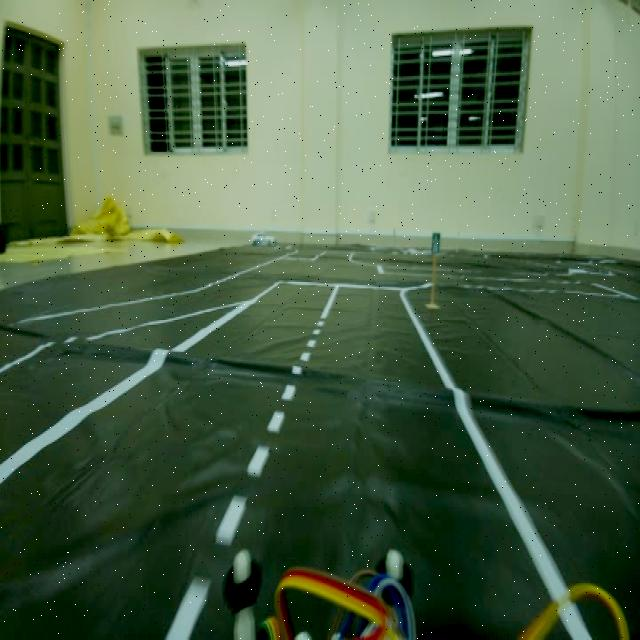highway_entry: (429, 228, 441, 257)
